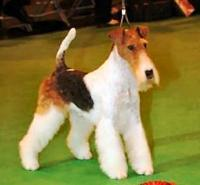wire-haired_fox_terrier: (18, 23, 163, 182)
